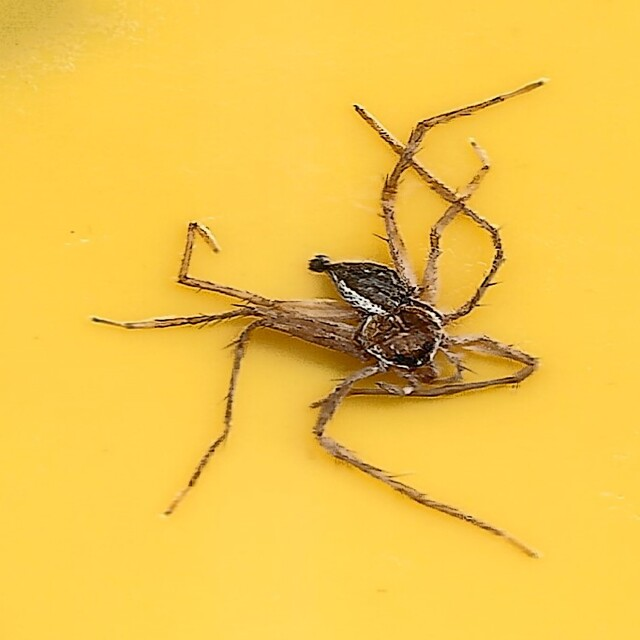Araneae: (94, 78, 546, 562)
